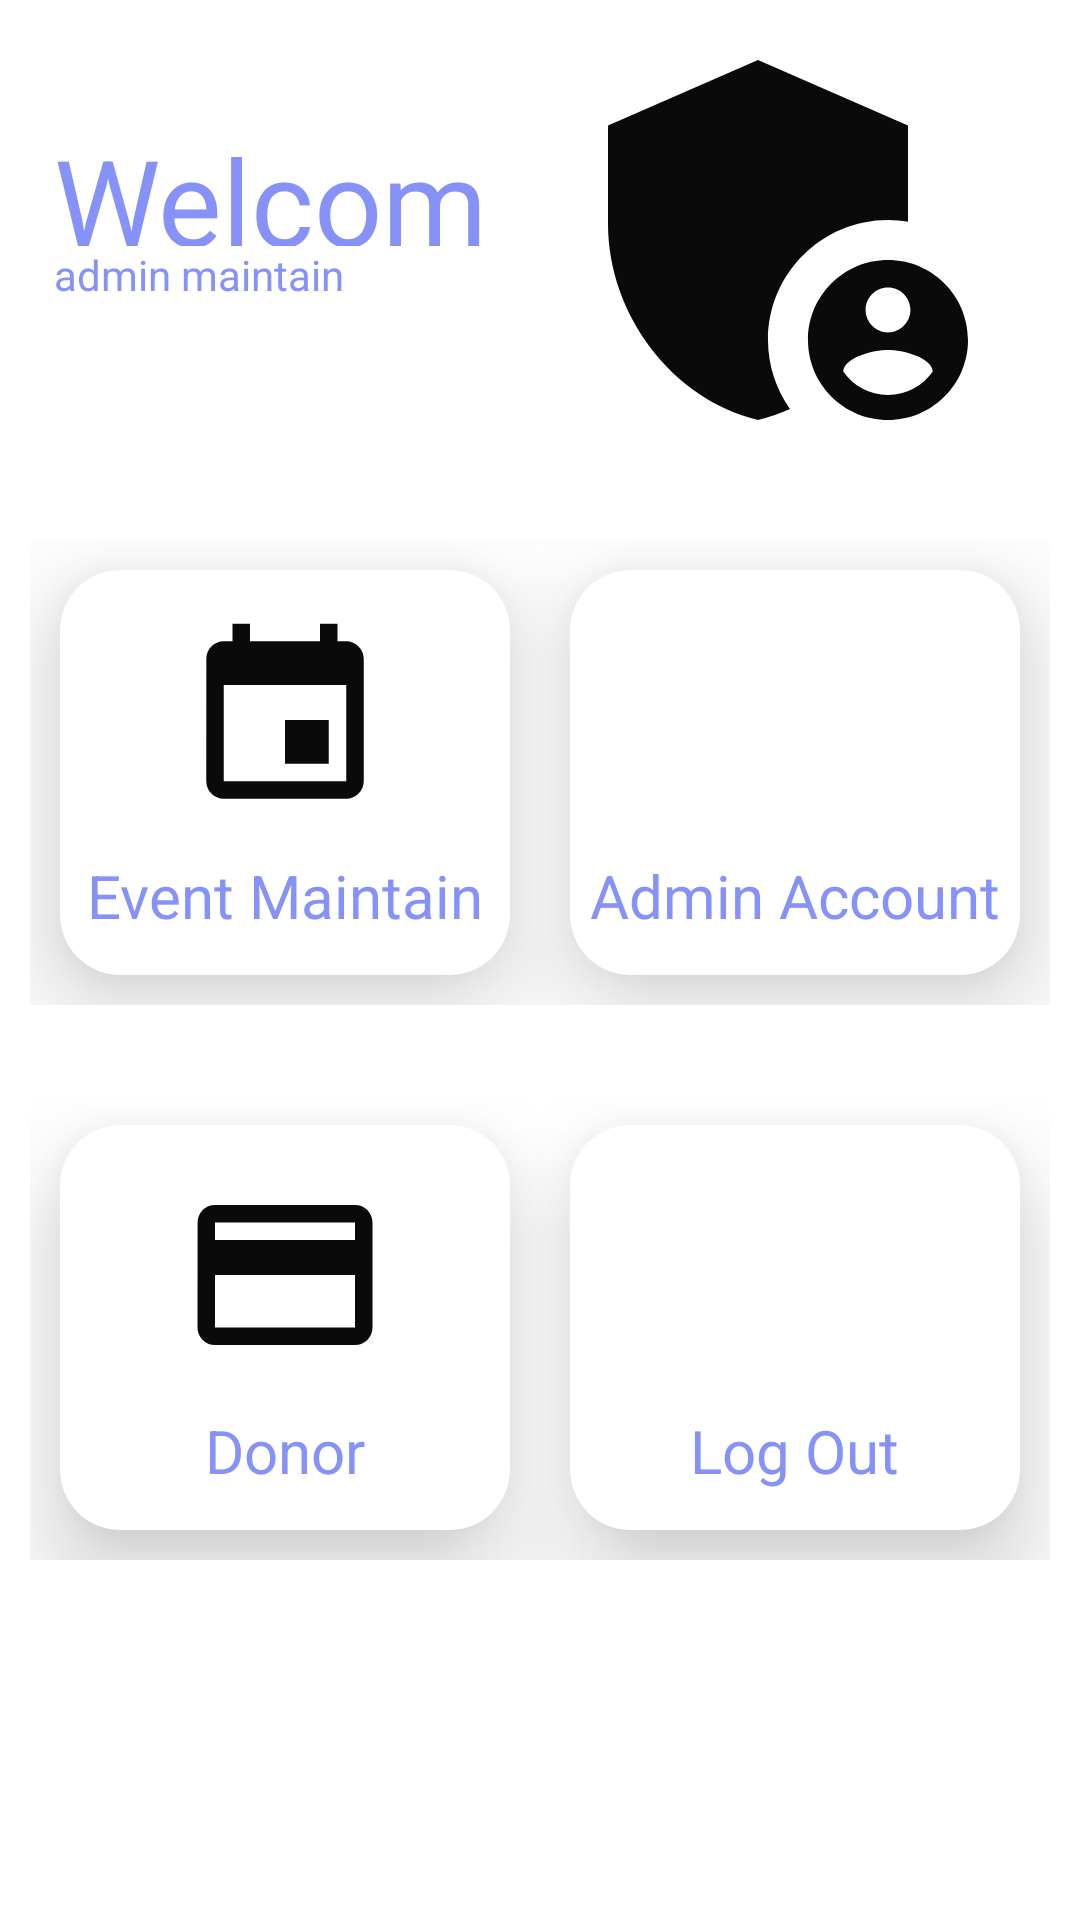

Named icons in this screenshot (1080 × 1920) and their centers, point (x, y):
admin panel settings: point (788, 240)
payment: point (285, 1275)
